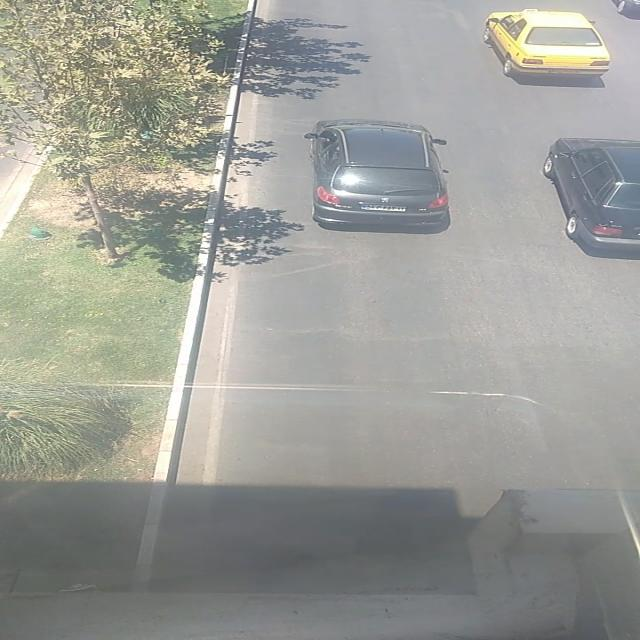car: (302, 120, 452, 227), (539, 137, 640, 252), (481, 8, 609, 84)
